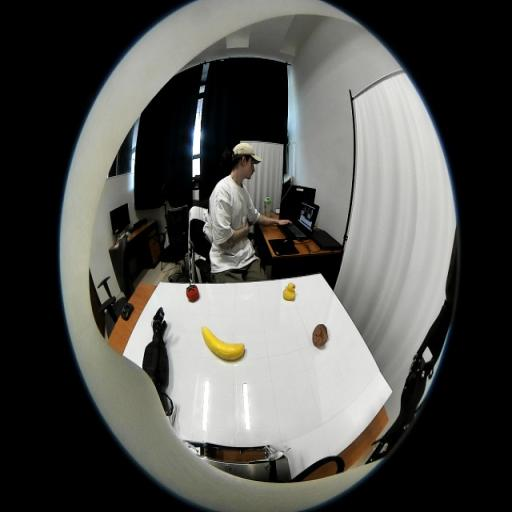Banana: (201, 325, 245, 361)
Duck: (282, 282, 296, 301)
LeftHand: (153, 323, 162, 336)
Mushroom: (312, 324, 331, 348)
Tomato: (186, 284, 199, 302)
